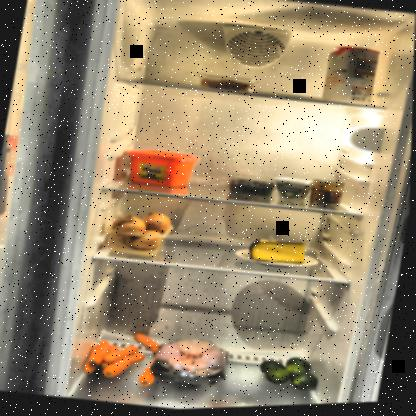blueberries: (229, 177, 277, 200)
butter: (122, 144, 201, 194)
carrot: (81, 324, 173, 393)
cheese: (249, 237, 313, 271)
chicken: (149, 333, 238, 393)
corn: (309, 180, 347, 212)
lime: (257, 353, 328, 398)
onion: (108, 205, 175, 257)
shrimp: (200, 75, 256, 98)
